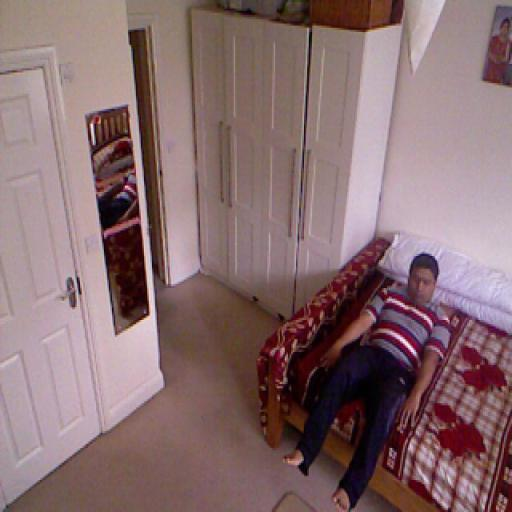Fall: (275, 236, 459, 512)
